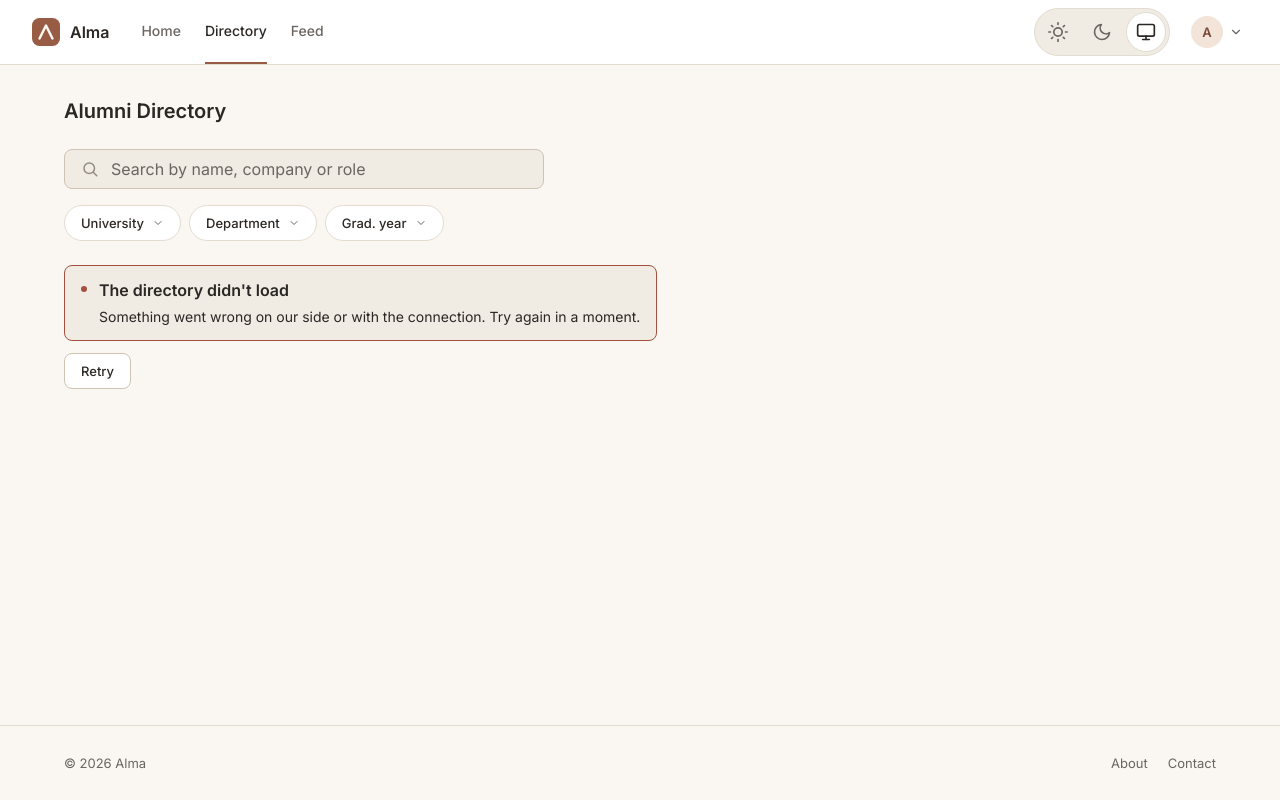
DirectoryPage › shows an error with Retry, and Retry loads the page
Expected: the text "The directory didn't load" is shown, [99,280,289,300]
Click the button "Retry" at x=98, y=371, box [64,353,131,389]
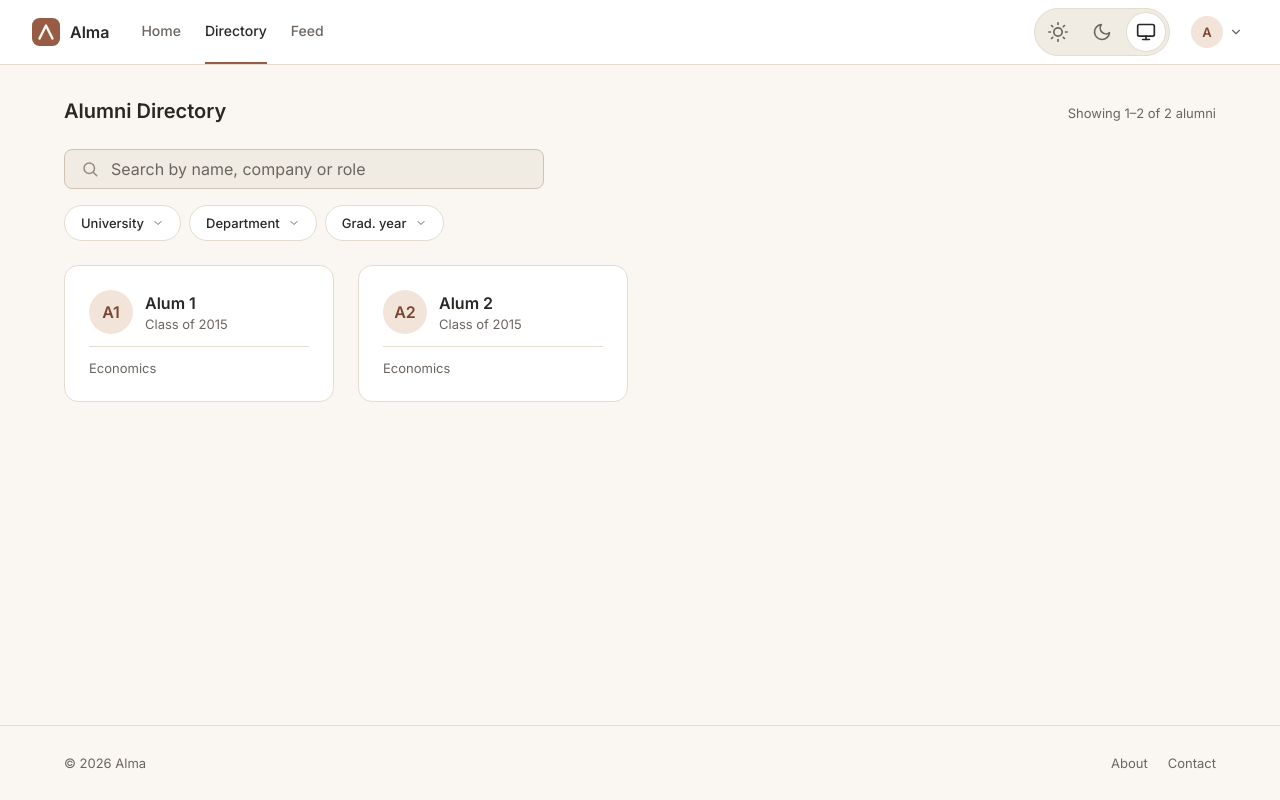
Result: the text "The directory didn't load" is gone
Result: the element showing "Showing 1–2 of 2 alumni" is shown at [1068,104,1216,122]
